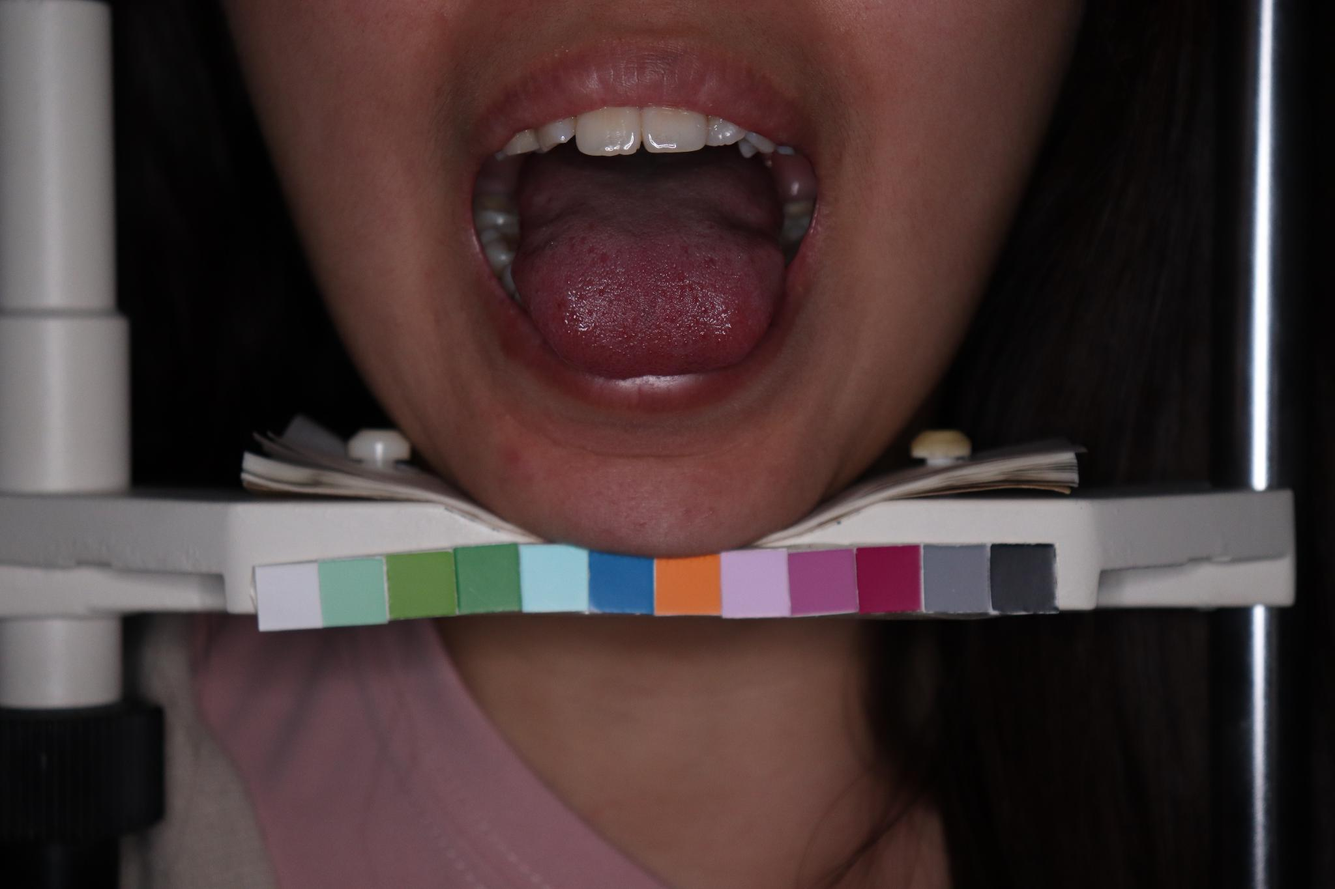baitaishe: (510, 145, 785, 378)
hongdianshe: (553, 299, 565, 311), (677, 242, 688, 255), (577, 233, 587, 246), (701, 303, 709, 314)
hongshe: (510, 145, 785, 378)
